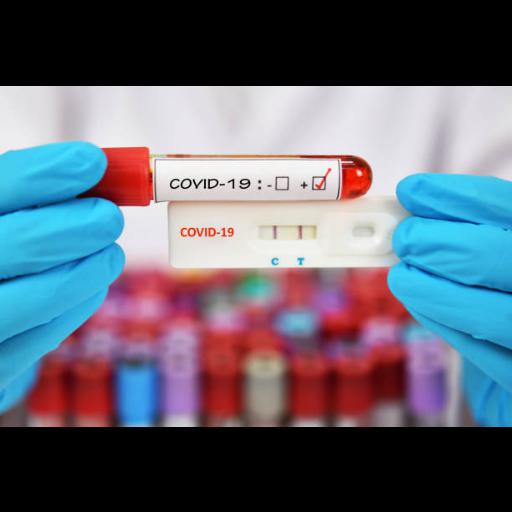Pos: (170, 199, 400, 263)
